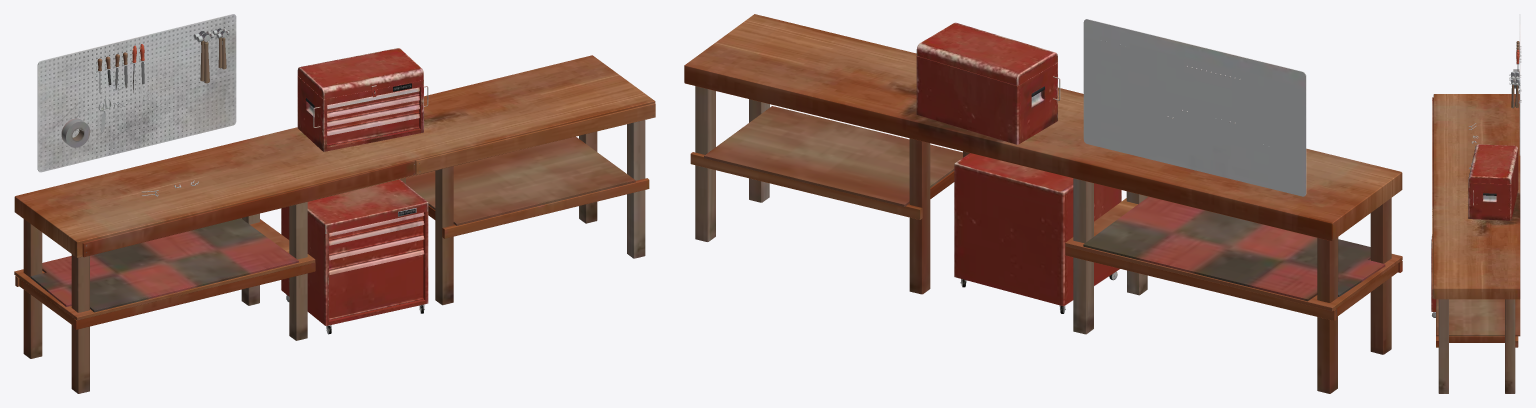
The model's file is workbench.glb.
3 renders of one model, left to right at view 1: azimuth 30°, elevation 25°; view 2: azimuth 150°, elevation 25°; view 3: azimuth 270°, elevation 25°, orthographic. The views are drawn at different scales.
Parts seen in each view (by area): view 1: Object_4, Object_3, Object_6, Object_5; view 2: Object_4, Object_3, Object_6, Object_5; view 3: Object_4, Object_6, Object_5, Object_3.
Part boxes in pixels (<box>): Object_4: <box>14,29,655,330</box>; Object_3: <box>15,14,653,334</box>; Object_6: <box>23,76,645,393</box>; Object_5: <box>96,37,428,325</box>; Object_4: <box>684,14,1402,311</box>; Object_3: <box>690,19,1402,320</box>; Object_6: <box>695,62,1391,393</box>; Object_5: <box>916,22,1268,306</box>; Object_4: <box>1431,51,1520,336</box>; Object_6: <box>1433,183,1515,393</box>; Object_5: <box>1431,41,1521,311</box>; Object_3: <box>1432,14,1520,347</box>.
Bounding box in the file's own units: 372 × 175 × 72.79.
Materials: 1 (1 with a texture image).
